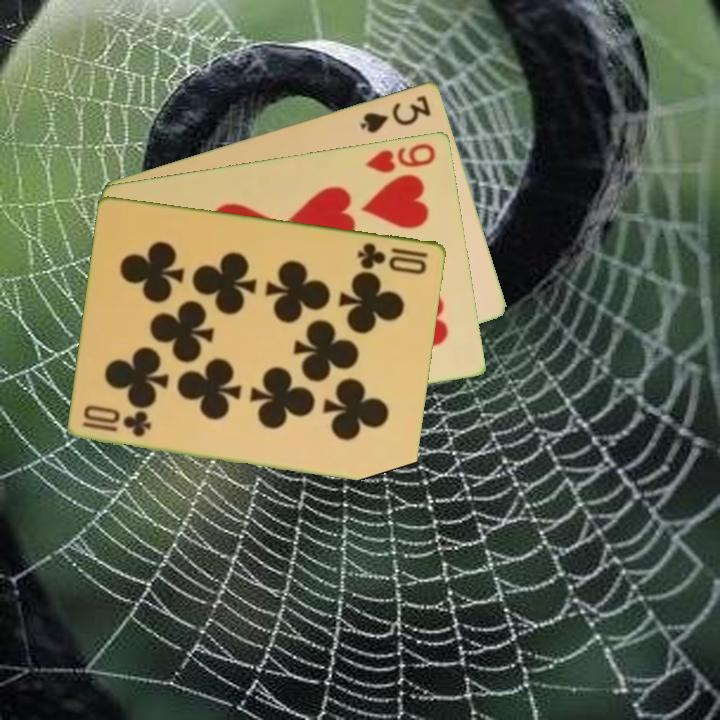10c: (354, 238, 432, 277), (79, 410, 155, 440)
3s: (357, 91, 434, 136)
9h: (362, 139, 439, 175)
